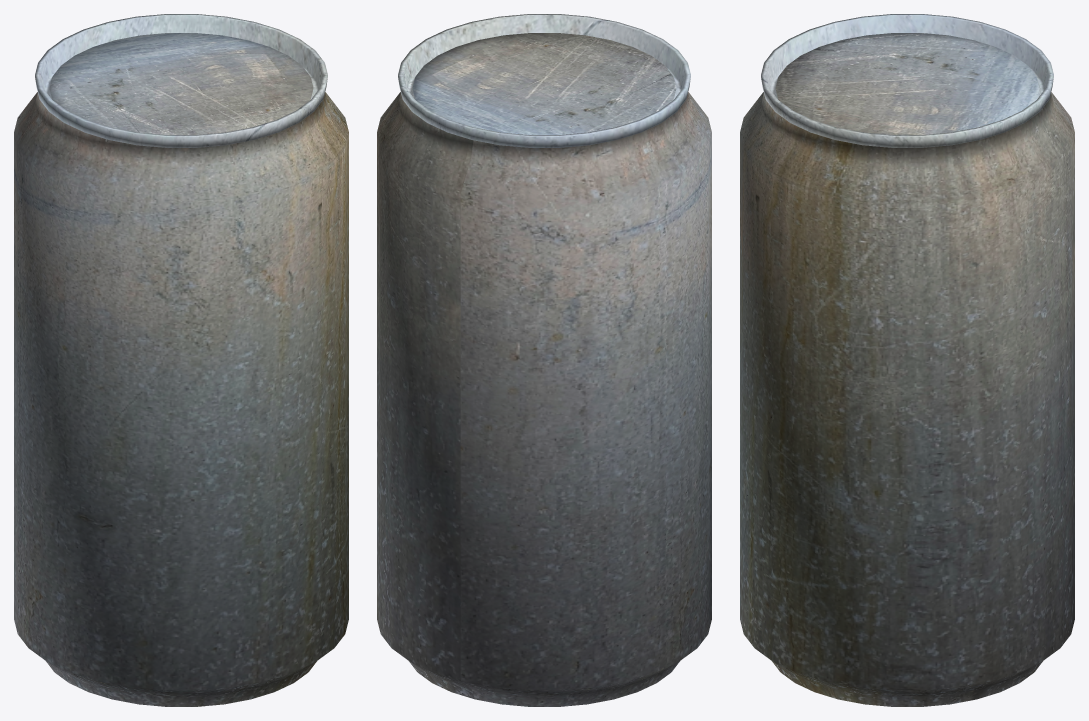
File: can.fbx
3 views of the same model, side by side, from view 1: azimuth 30°, elevation 25°; view 2: azimuth 150°, elevation 25°; view 3: azimuth 270°, elevation 25° (orthographic).
Visible parts, largest first — view 1: Cylinder; view 2: Cylinder; view 3: Cylinder.
Boxes of the visible parts, x1,y1,x2,y2 form: Cylinder: (14, 14, 348, 706); Cylinder: (377, 14, 711, 706); Cylinder: (740, 14, 1074, 706).
Size of the model in its own units: 6.31 by 11.98 by 6.35.
Materials: 1 (1 with a texture image).
